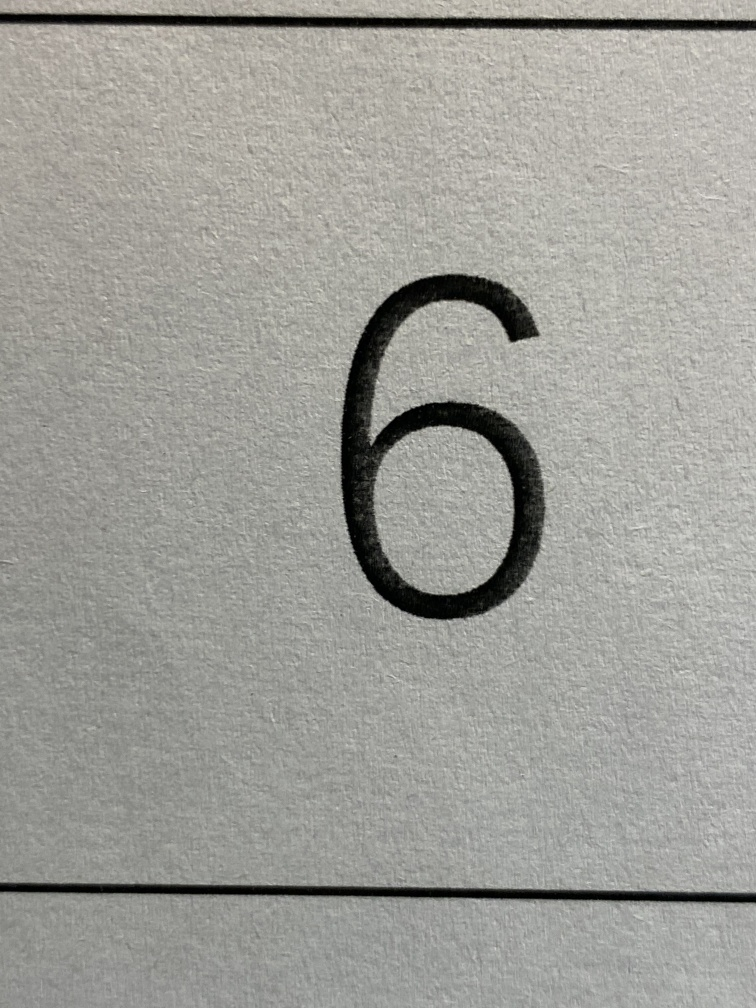six: (239, 204, 624, 712)
